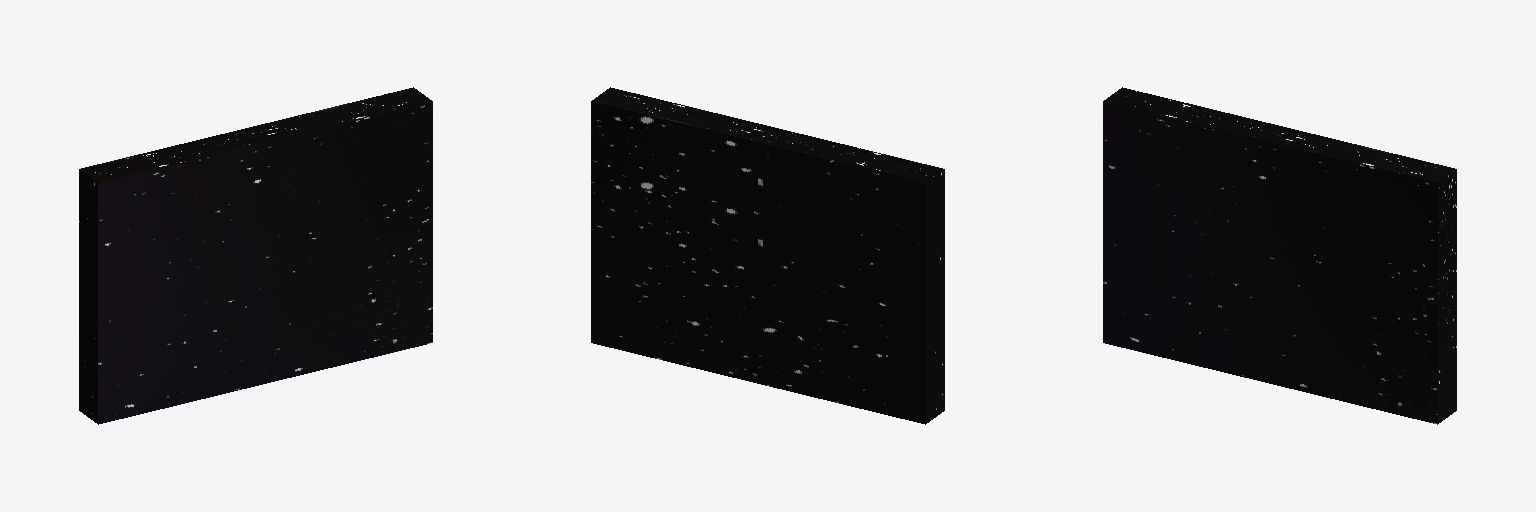
The picture shows the model from 3 angles: view 1: azimuth 30°, elevation 25°; view 2: azimuth 150°, elevation 25°; view 3: azimuth 330°, elevation 25°; orthographic projection.
Parts seen in each view (by area): view 1: Cube; view 2: Cube; view 3: Cube.
Boxes of the visible parts, <box> form: Cube: <box>79,87,432,424</box>; Cube: <box>591,87,944,424</box>; Cube: <box>1103,87,1456,424</box>.
Size of the model in its own units: 20.18 by 13.93 by 2.
Materials: 1 (1 with a texture image).